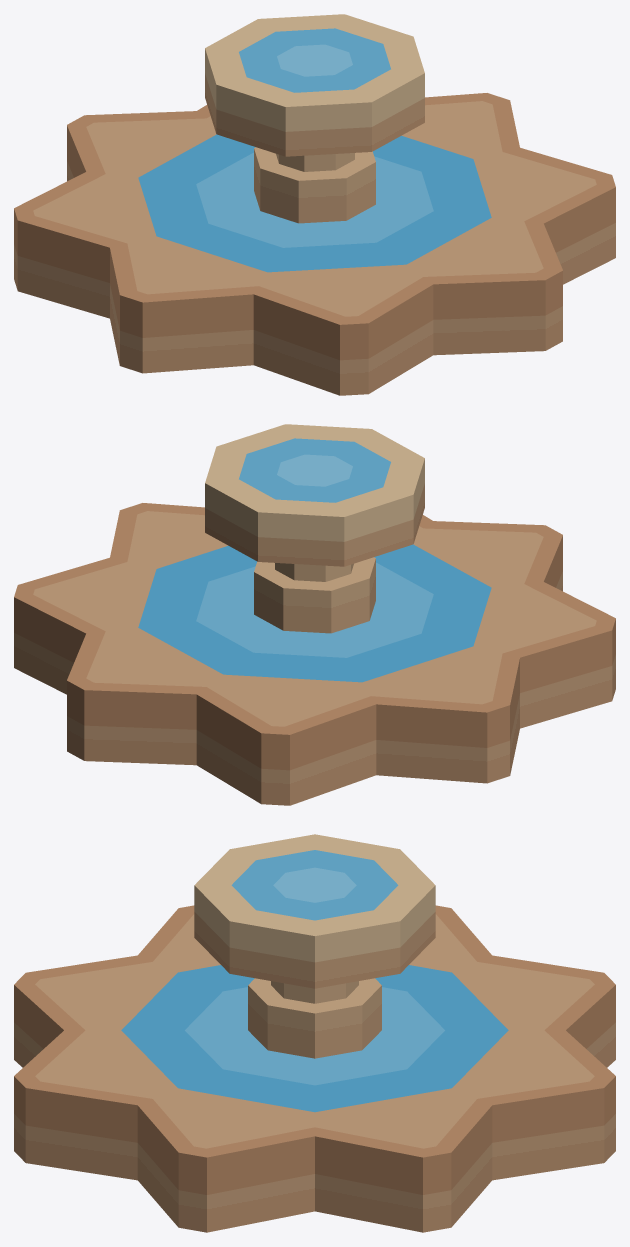
The model's file is fountain_1.glb.
3 renders of one model, top to bottom at view 1: azimuth 30°, elevation 25°; view 2: azimuth 150°, elevation 25°; view 3: azimuth 270°, elevation 25°, orthographic. The views are drawn at different scales.
Parts seen in each view (by area): view 1: fountain 1; view 2: fountain 1; view 3: fountain 1.
Boxes of the visible parts, x1,y1,x2,y2 form: fountain 1: (14,14,615,395); fountain 1: (14,424,615,805); fountain 1: (14,834,615,1232).
Size of the model in its own units: 4.54 by 1.83 by 4.54.
1 material, 1 textured.
